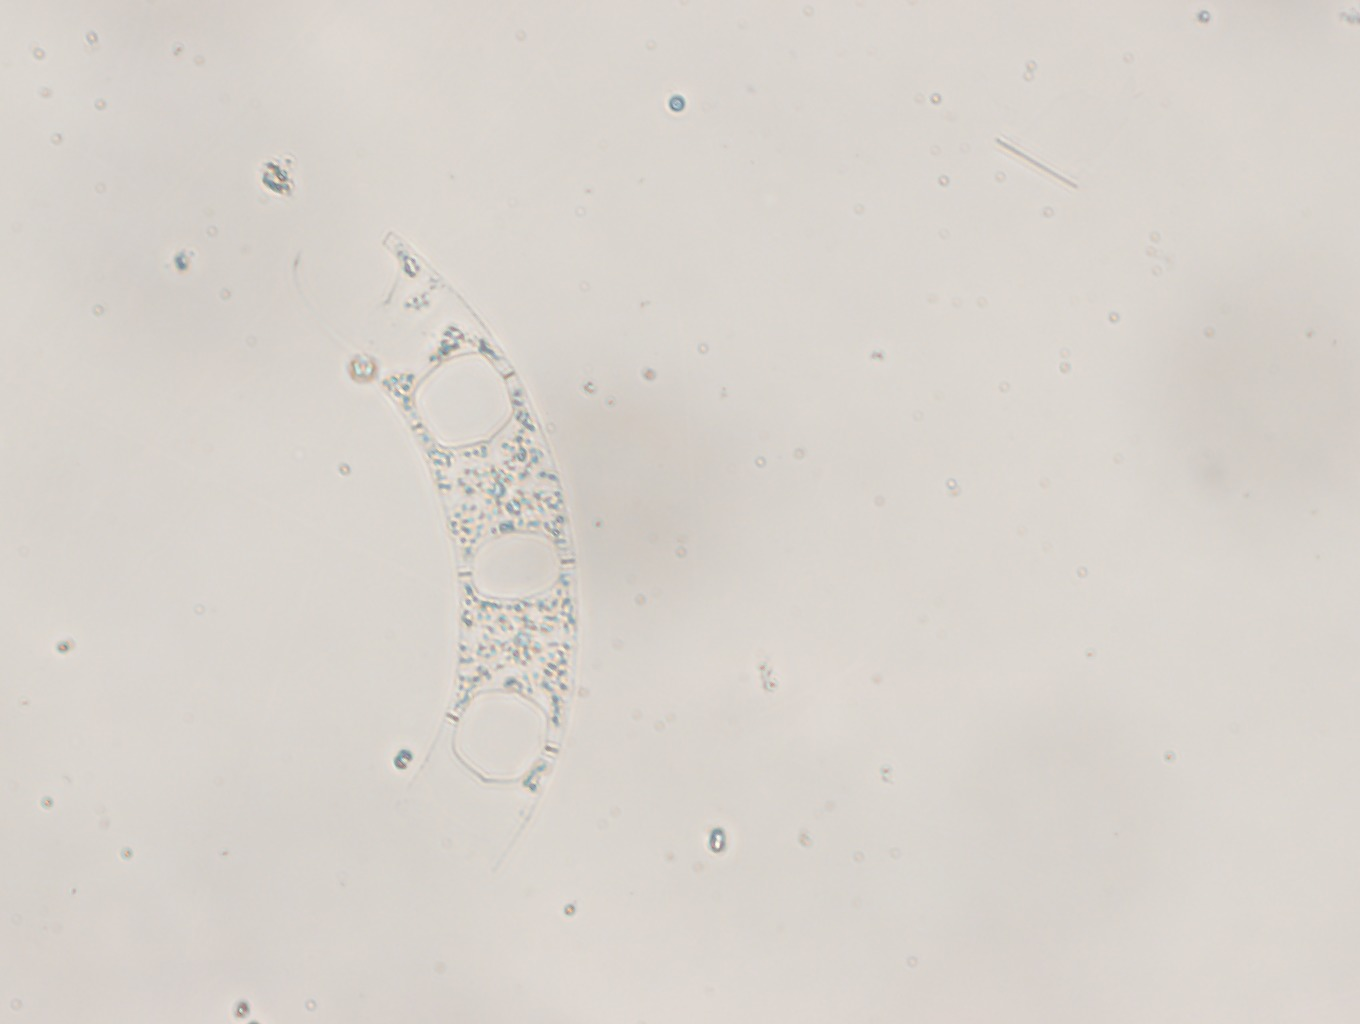eucampia: (287, 222, 586, 853)
